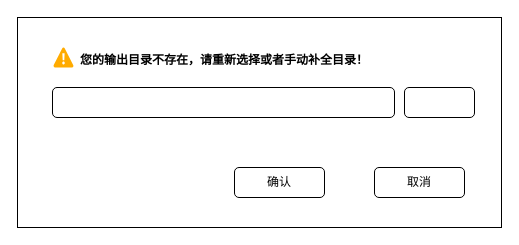
This 519x245 diagram has some shape labels left out. Here are the shapes that lost their labels. From the top down, the centre of each, then its label:
At point (223, 102): "C:\Users\cooldanny\Videos\ VideoProc Converter AI".
At point (439, 102): "Browse".
